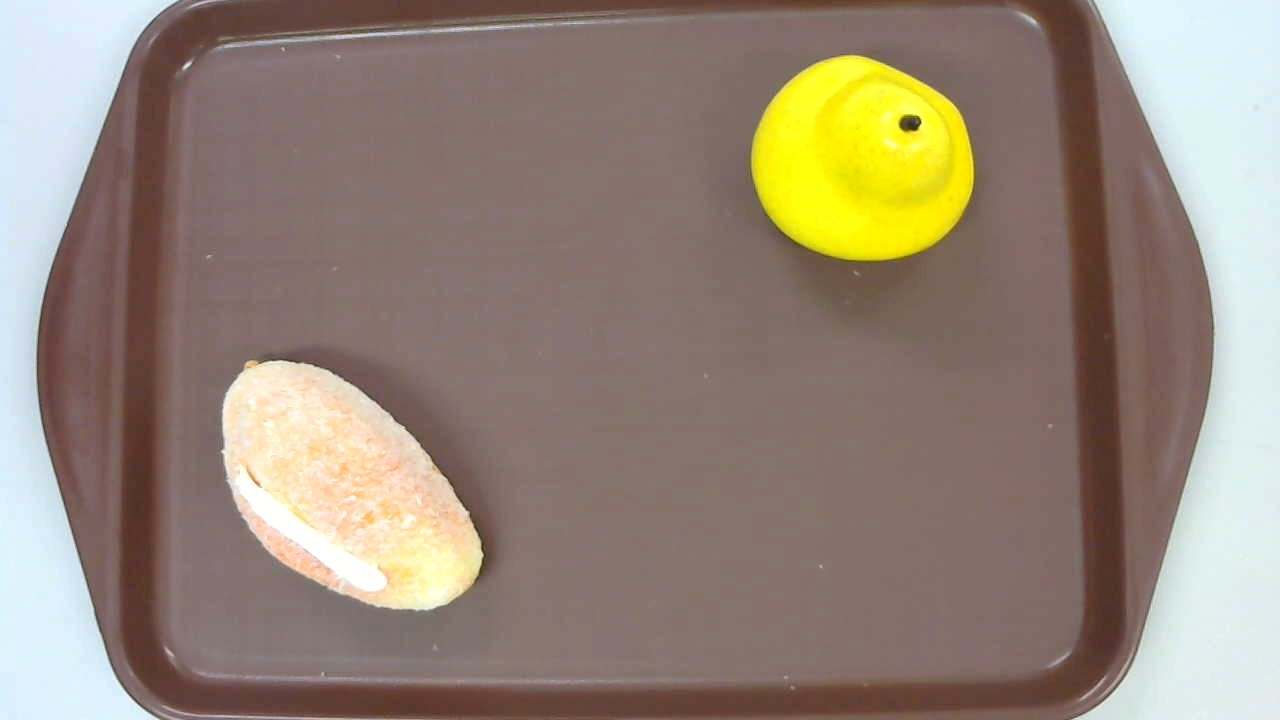coconut: (220, 360, 485, 612)
yellow pear: (751, 53, 974, 262)
